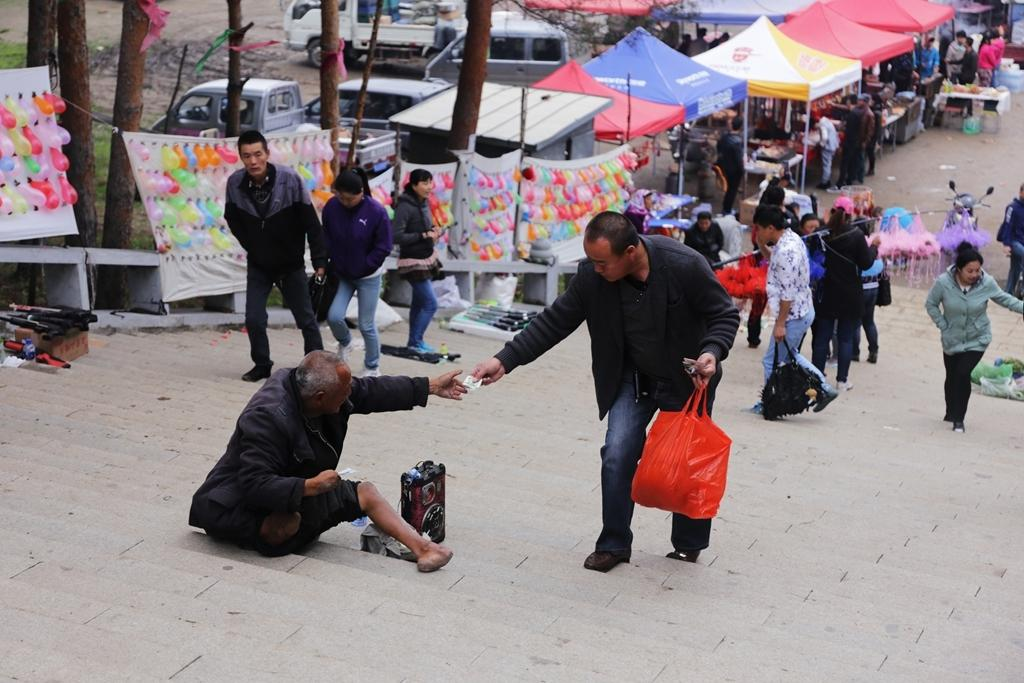bending: (460, 215, 755, 573), (167, 337, 485, 584)
up: (220, 125, 337, 382), (912, 233, 1021, 438), (748, 198, 840, 429), (312, 163, 401, 368), (394, 167, 456, 371)
